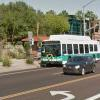Bus: (37, 30, 98, 62)
